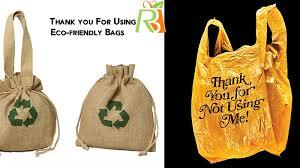Plastic bag: (180, 12, 295, 164), (0, 9, 55, 161)
Textile: (66, 61, 156, 158)
